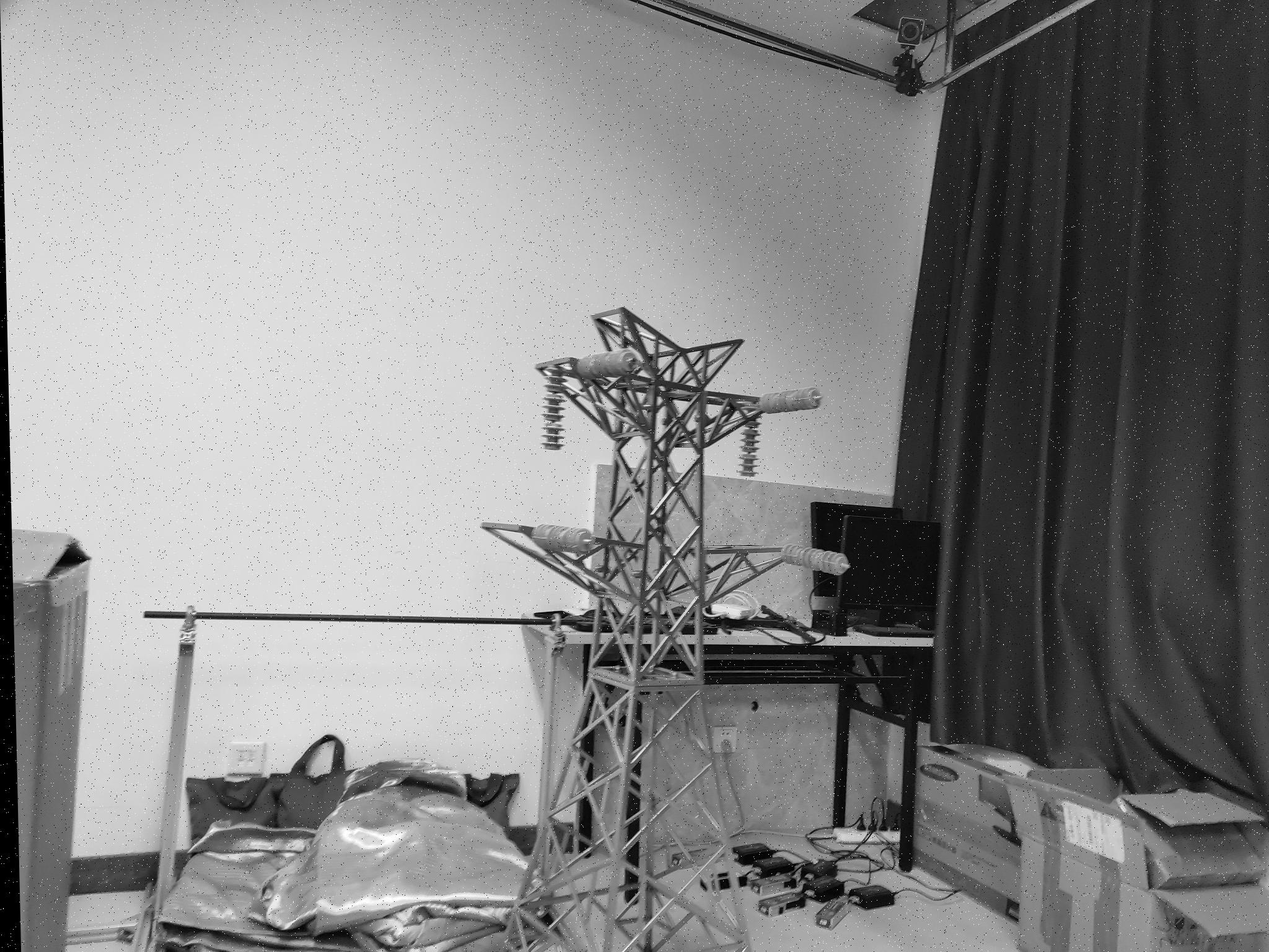tower: (482, 306, 792, 952)
